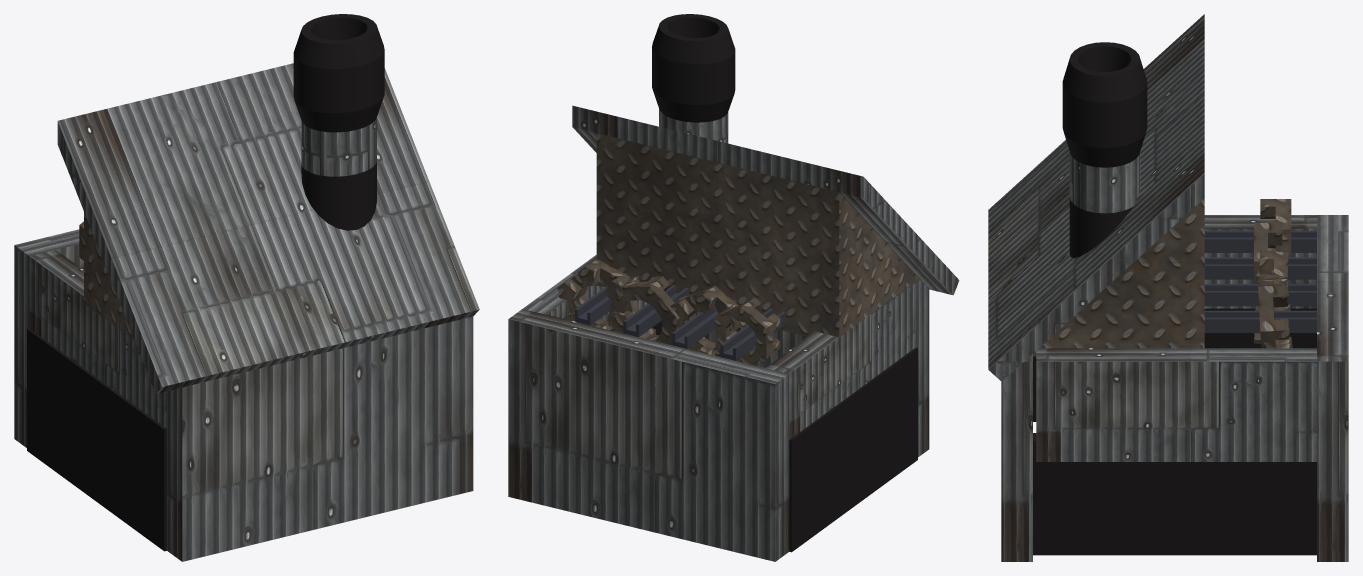
The model's file is factory_5.fbx.
The picture shows the model from 3 angles, left to right: view 1: azimuth 30°, elevation 25°; view 2: azimuth 150°, elevation 25°; view 3: azimuth 270°, elevation 25°; orthographic projection. The views are drawn at different scales.
Visible parts, largest first — view 1: mergedBlocks; view 2: mergedBlocks; view 3: mergedBlocks.
Part boxes in pixels (x1,y1,x2,y2): mergedBlocks: (14, 14, 479, 561); mergedBlocks: (508, 14, 959, 561); mergedBlocks: (988, 14, 1348, 561).
Bounding box in the file's own units: 12 × 16.1 × 11.41.
